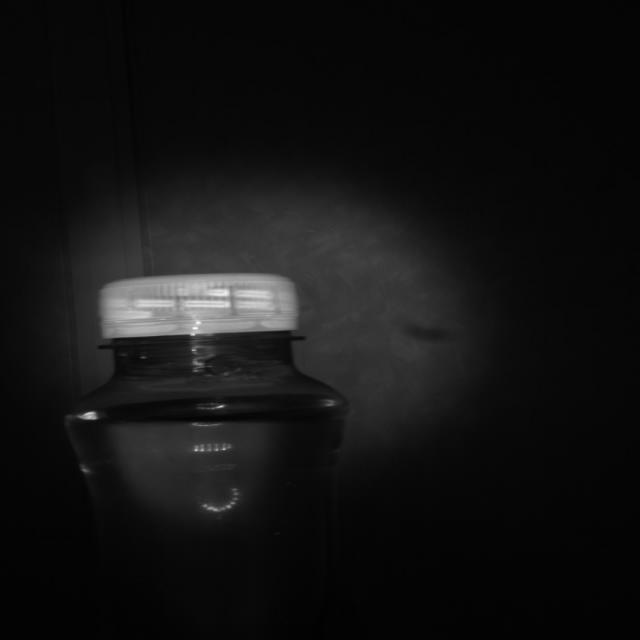Good: (96, 272, 300, 340)
